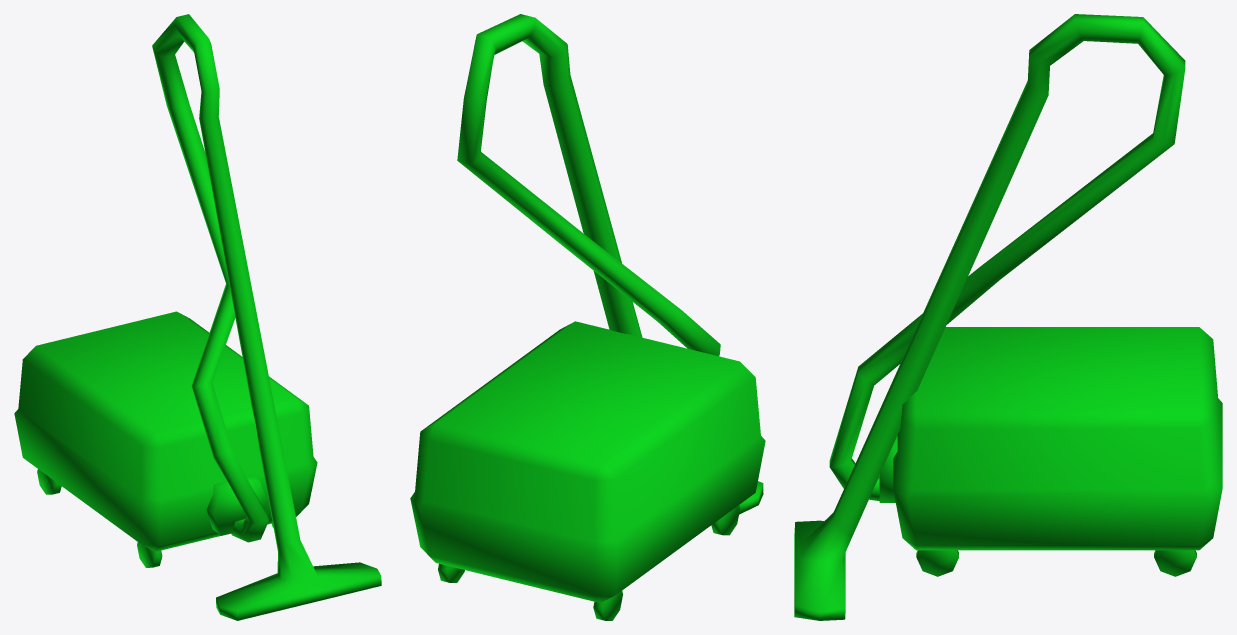
File: vacuumcleaner.fbx
3 renders of one model, left to right at view 1: azimuth 30°, elevation 25°; view 2: azimuth 150°, elevation 25°; view 3: azimuth 270°, elevation 25°, orthographic. The views are drawn at different scales.
Visible parts, largest first — view 1: Items.006; view 2: Items.006; view 3: Items.006.
Part boxes in pixels (left/top/right/bottom): Items.006: left=14, top=14, right=381, bottom=620; Items.006: left=410, top=14, right=765, bottom=620; Items.006: left=794, top=14, right=1222, bottom=620.
Size of the model in its own units: 37.45 by 85.43 by 58.28.
